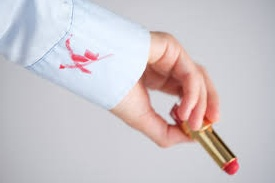lipstick: (56, 40, 102, 76), (70, 46, 119, 66), (70, 49, 97, 66)
